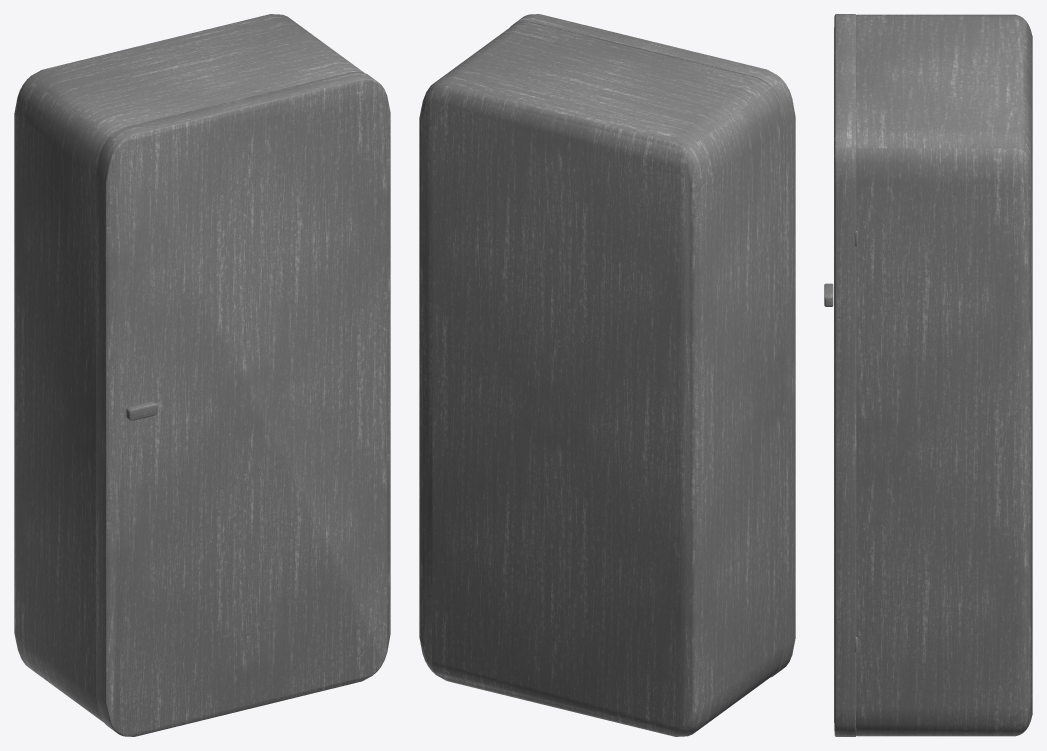
Rendered from Fridge.fbx.
The picture shows the model from 3 angles, left to right: view 1: azimuth 30°, elevation 25°; view 2: azimuth 150°, elevation 25°; view 3: azimuth 270°, elevation 25°; orthographic projection.
Parts seen in each view (by area): view 1: Cube_3; view 2: Cube_3; view 3: Cube_3.
Boxes of the visible parts, x1,y1,x2,y2 form: Cube_3: [14, 14, 390, 736]; Cube_3: [419, 14, 795, 736]; Cube_3: [824, 14, 1032, 736].
Bounding box in the file's own units: 100 × 199 × 61.99.
